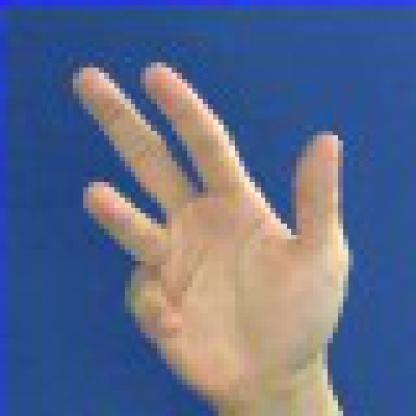nine: (31, 41, 411, 410)
